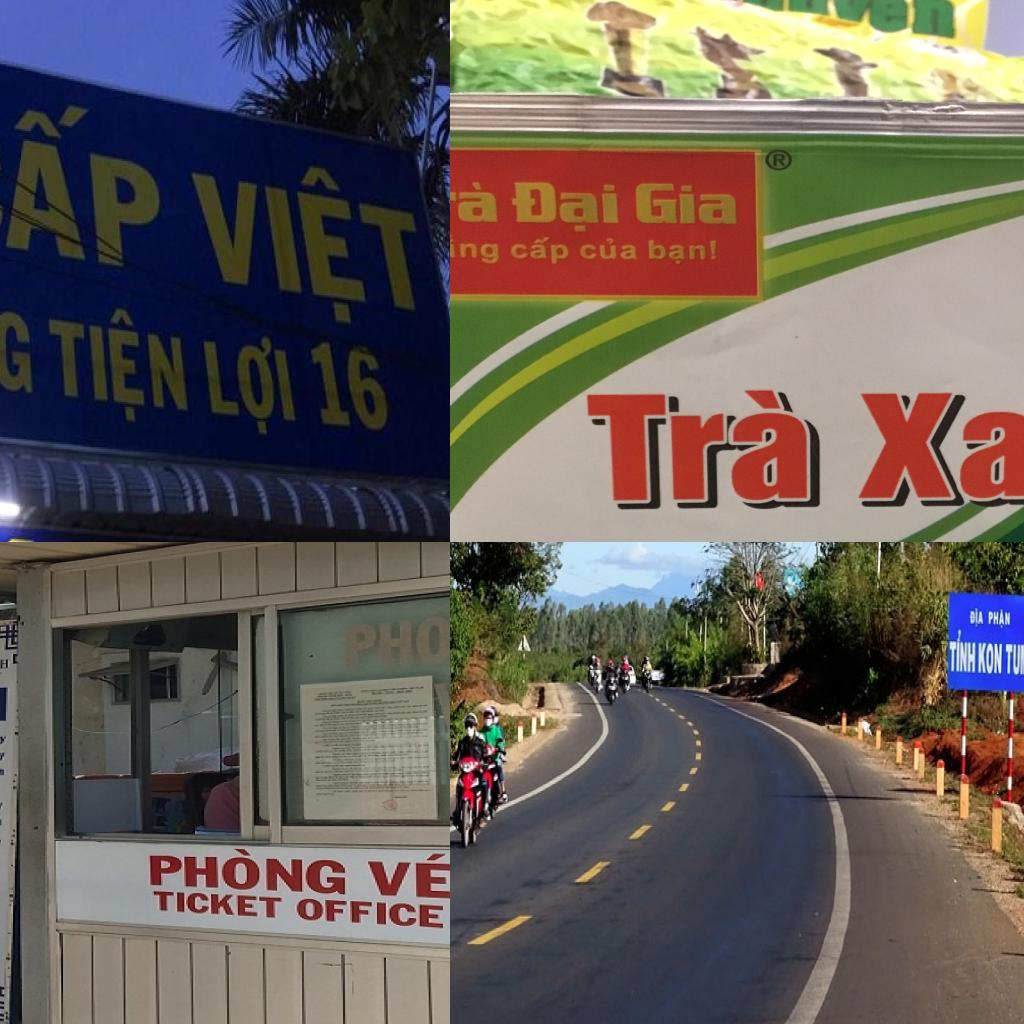text: (182, 153, 442, 338), (0, 87, 171, 288), (582, 388, 816, 504), (854, 386, 1024, 501), (45, 302, 194, 430), (194, 328, 308, 444), (147, 844, 350, 898), (301, 332, 398, 439), (339, 606, 450, 670), (508, 180, 624, 234), (0, 265, 41, 404), (295, 895, 446, 932), (631, 181, 741, 227), (152, 888, 286, 922), (362, 851, 450, 901), (866, 0, 958, 44), (644, 236, 720, 268), (450, 179, 500, 225), (508, 235, 571, 266), (576, 235, 640, 263), (450, 232, 501, 267), (948, 628, 977, 674), (432, 662, 450, 731), (978, 642, 1003, 676), (989, 608, 1012, 631), (969, 608, 985, 628), (771, 153, 789, 170), (0, 658, 13, 670), (0, 735, 9, 746), (0, 751, 7, 762)
